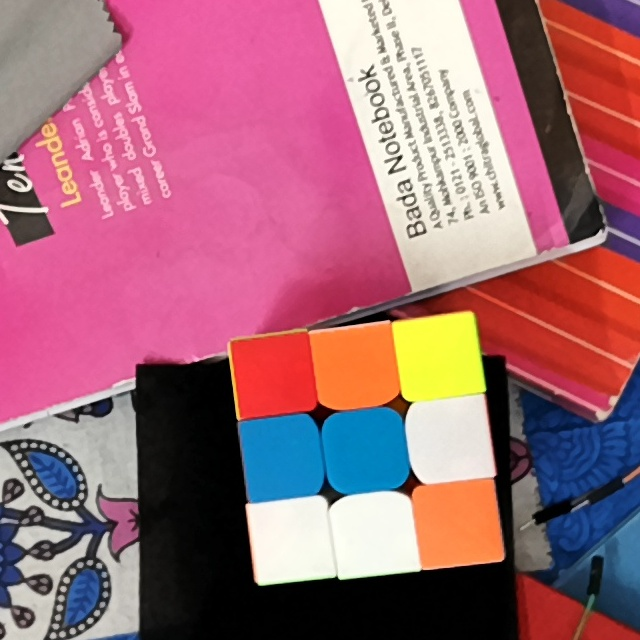tile: (423, 490, 492, 558), (332, 418, 399, 483), (322, 334, 390, 397), (250, 423, 315, 488), (421, 405, 484, 471), (408, 325, 474, 387), (258, 509, 325, 570), (344, 505, 408, 568), (243, 342, 305, 405)
